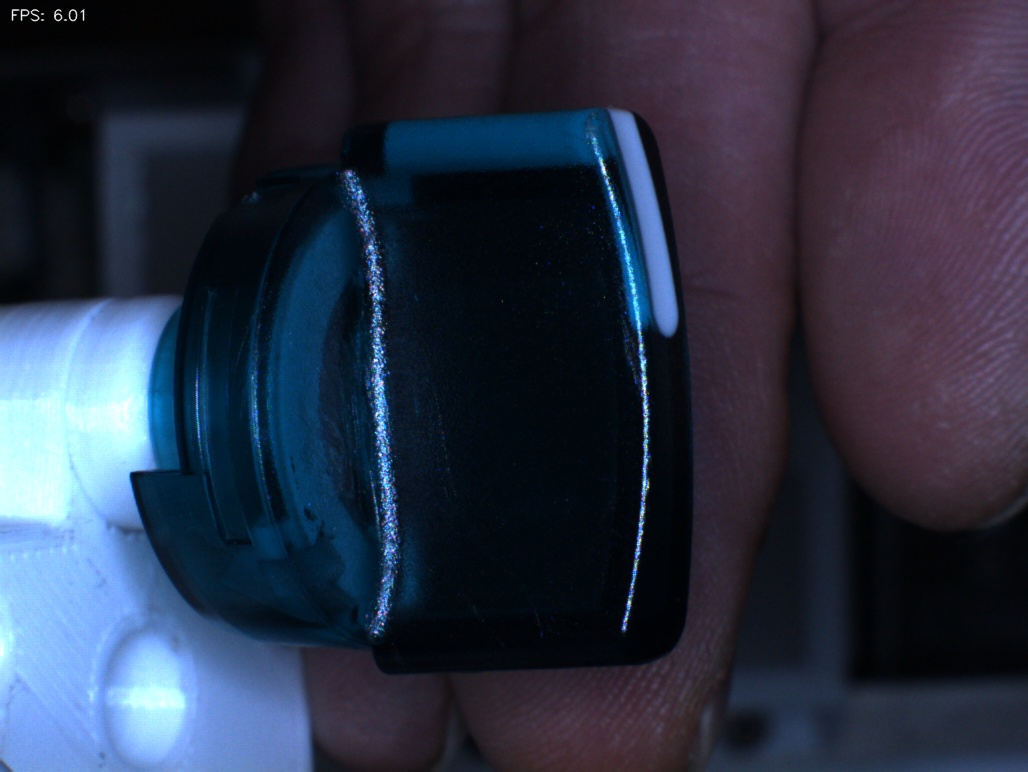Givrage: (449, 536, 563, 662), (289, 352, 375, 489), (408, 366, 479, 512)
